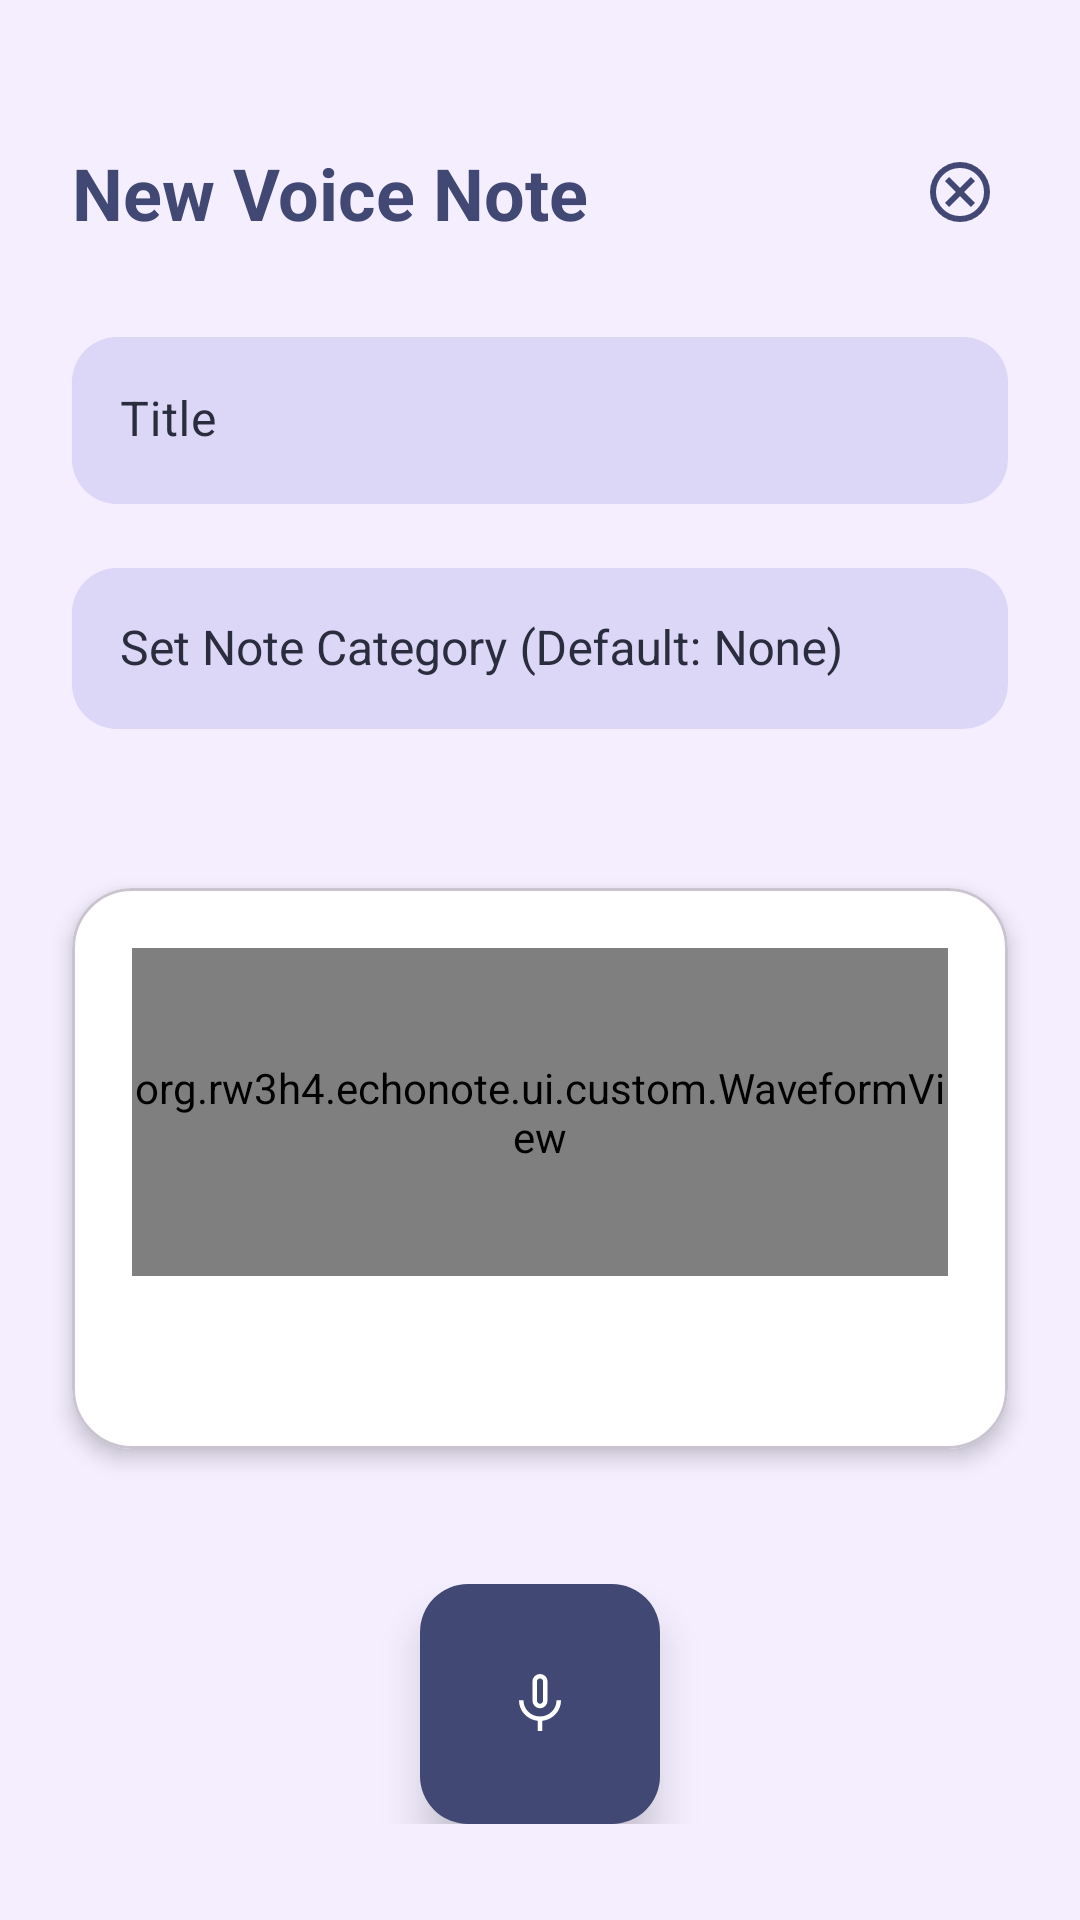

Screen size 1080 x 1920. Icon name, then its box in pixels as bbox=(x1, y1, x2, y2):
Close Button: bbox=(930, 162, 990, 222)
Start recording your voice note: bbox=(420, 1584, 660, 1824)
